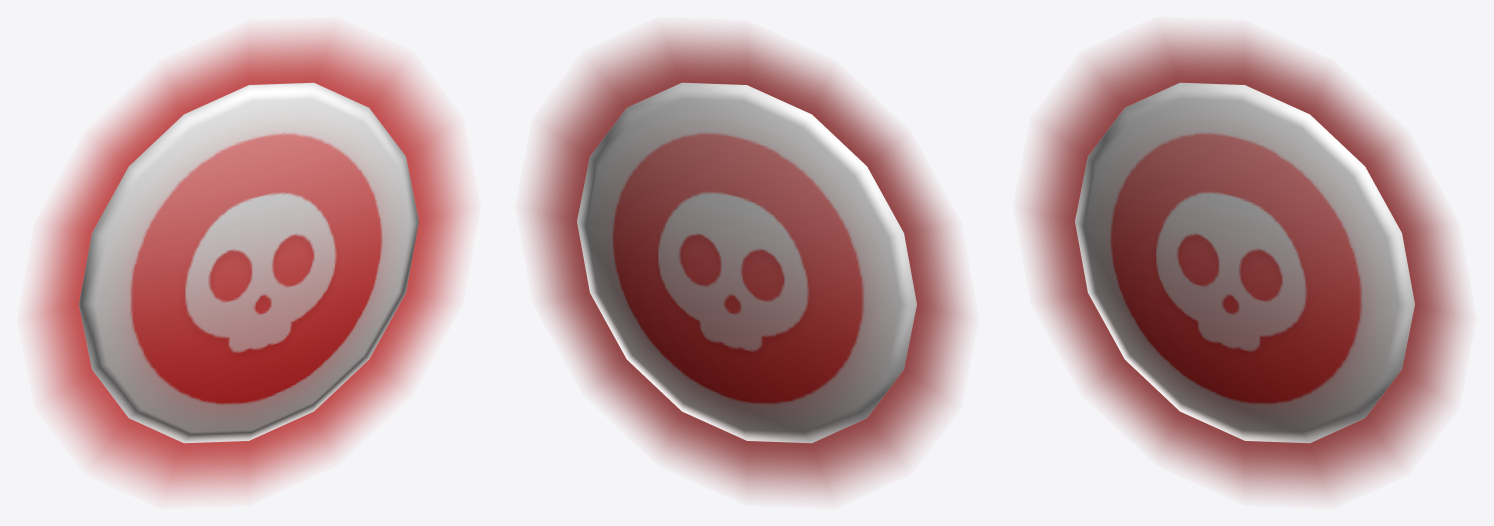
The model's file is guanzhurenyuan_tb.f074779.glb.
3 renders of one model, left to right at view 1: azimuth 30°, elevation 25°; view 2: azimuth 150°, elevation 25°; view 3: azimuth 330°, elevation 25°, orthographic.
Visible parts, largest first — view 1: 关注人员图标; view 2: 关注人员图标; view 3: 关注人员图标.
Boxes of the visible parts, bbox=[...] form: 关注人员图标: bbox=[28, 29, 469, 496]; 关注人员图标: bbox=[526, 29, 967, 496]; 关注人员图标: bbox=[1024, 29, 1465, 496].
Size of the model in its own units: 0.8291 by 0.8291 by 0.09.
2 materials, 2 textured.
